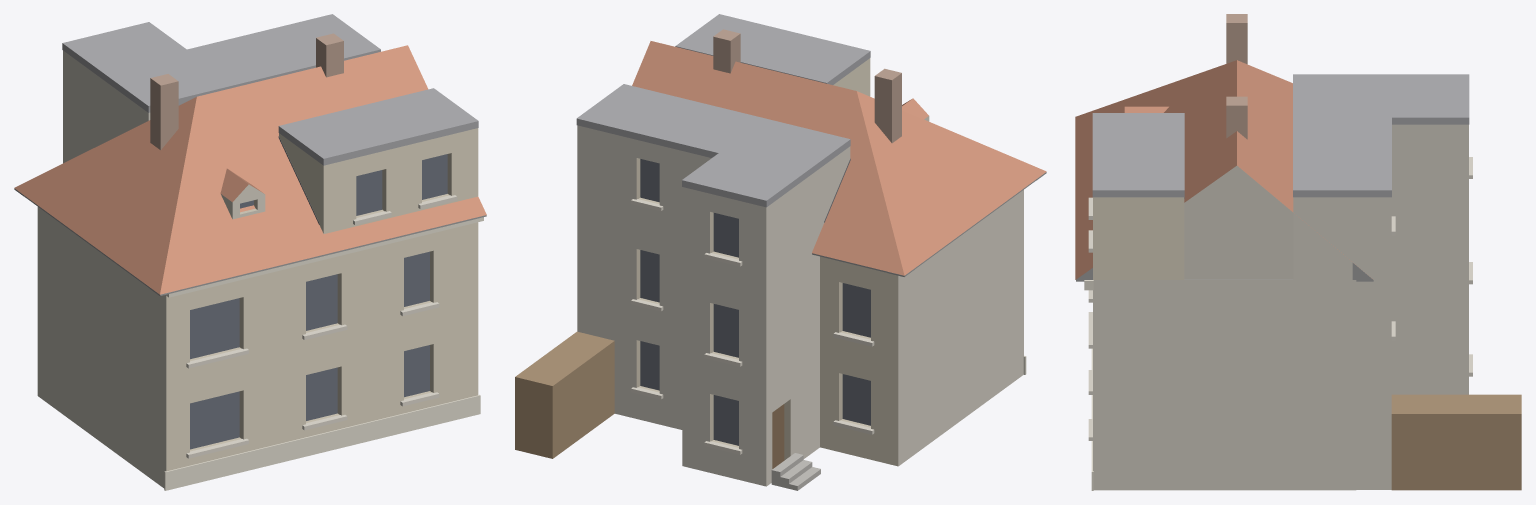
3 renders of one model, left to right at view 1: azimuth 30°, elevation 25°; view 2: azimuth 150°, elevation 25°; view 3: azimuth 270°, elevation 25°, orthographic. The views are drawn at different scales.
Visible parts, largest first — view 1: CP_1906_Masonry, CP_1906_Roof, CP_1906_WingRoof_vol_mansard_rear, CP_1906_Vol_mansard_front_Masonry, CP_1906_WingRoof_vol_mansard_front, CP_1906_Cornice_main_plinth_0, CP_1906_Vol_mansard_rear_Masonry, CP_1906_Chimney_0, CP_1906_Dormer_d1, CP_1906_Cornice_main_eave_0, CP_1906_Chimney_1, CP_1906_Roof_EaveClosure_2; view 2: CP_1906_Vol_mansard_rear_Masonry, CP_1906_Masonry, CP_1906_Roof, CP_1906_WingRoof_vol_mansard_rear, CP_1906_Woodshed, CP_1906_WingRoof_vol_mansard_front, CP_1906_Chimney_0, CP_1906_Chimney_1, CP_1906_Vol_mansard_front_Masonry; view 3: CP_1906_Masonry, CP_1906_Vol_mansard_rear_Masonry, CP_1906_WingRoof_vol_mansard_rear, CP_1906_Roof, CP_1906_Woodshed, CP_1906_AtticClosure, CP_1906_WingRoof_vol_mansard_front, CP_1906_Vol_mansard_front_Masonry, CP_1906_Chimney_0, CP_1906_Chimney_1.
Boxes of the visible parts, left/top/right/bottom form: CP_1906_Masonry: left=37, top=207, right=478, bottom=488; CP_1906_Roof: left=14, top=45, right=486, bottom=294; CP_1906_WingRoof_vol_mansard_rear: left=62, top=14, right=380, bottom=112; CP_1906_Vol_mansard_front_Masonry: left=279, top=128, right=478, bottom=233; CP_1906_WingRoof_vol_mansard_front: left=278, top=88, right=478, bottom=165; CP_1906_Cornice_main_plinth_0: left=164, top=394, right=480, bottom=490; CP_1906_Vol_mansard_rear_Masonry: left=63, top=50, right=150, bottom=163; CP_1906_Chimney_0: left=150, top=74, right=178, bottom=150; CP_1906_Dormer_d1: left=220, top=168, right=265, bottom=219; CP_1906_Cornice_main_eave_0: left=166, top=217, right=483, bottom=297; CP_1906_Chimney_1: left=316, top=33, right=343, bottom=77; CP_1906_Roof_EaveClosure_2: left=149, top=215, right=486, bottom=295; CP_1906_Vol_mansard_rear_Masonry: left=577, top=125, right=850, bottom=486; CP_1906_Masonry: left=820, top=190, right=1023, bottom=466; CP_1906_Roof: left=632, top=41, right=1046, bottom=275; CP_1906_WingRoof_vol_mansard_rear: left=576, top=84, right=850, bottom=207; CP_1906_Woodshed: left=515, top=331, right=614, bottom=458; CP_1906_WingRoof_vol_mansard_front: left=675, top=14, right=870, bottom=84; CP_1906_Chimney_0: left=874, top=68, right=901, bottom=143; CP_1906_Chimney_1: left=713, top=29, right=740, bottom=73; CP_1906_Vol_mansard_front_Masonry: left=833, top=58, right=870, bottom=96; CP_1906_Masonry: left=1093, top=279, right=1356, bottom=490; CP_1906_Vol_mansard_rear_Masonry: left=1293, top=124, right=1468, bottom=489; CP_1906_WingRoof_vol_mansard_rear: left=1293, top=74, right=1469, bottom=197; CP_1906_Roof: left=1075, top=60, right=1372, bottom=279; CP_1906_Woodshed: left=1391, top=394, right=1521, bottom=490; CP_1906_AtticClosure: left=1184, top=166, right=1293, bottom=279; CP_1906_WingRoof_vol_mansard_front: left=1092, top=113, right=1184, bottom=197; CP_1906_Vol_mansard_front_Masonry: left=1093, top=197, right=1184, bottom=279; CP_1906_Chimney_0: left=1226, top=14, right=1247, bottom=64; CP_1906_Chimney_1: left=1226, top=96, right=1247, bottom=139.
Bounding box in the file's own units: 11.05 × 11 × 12.7.
